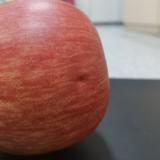apple: (1, 1, 109, 155)
